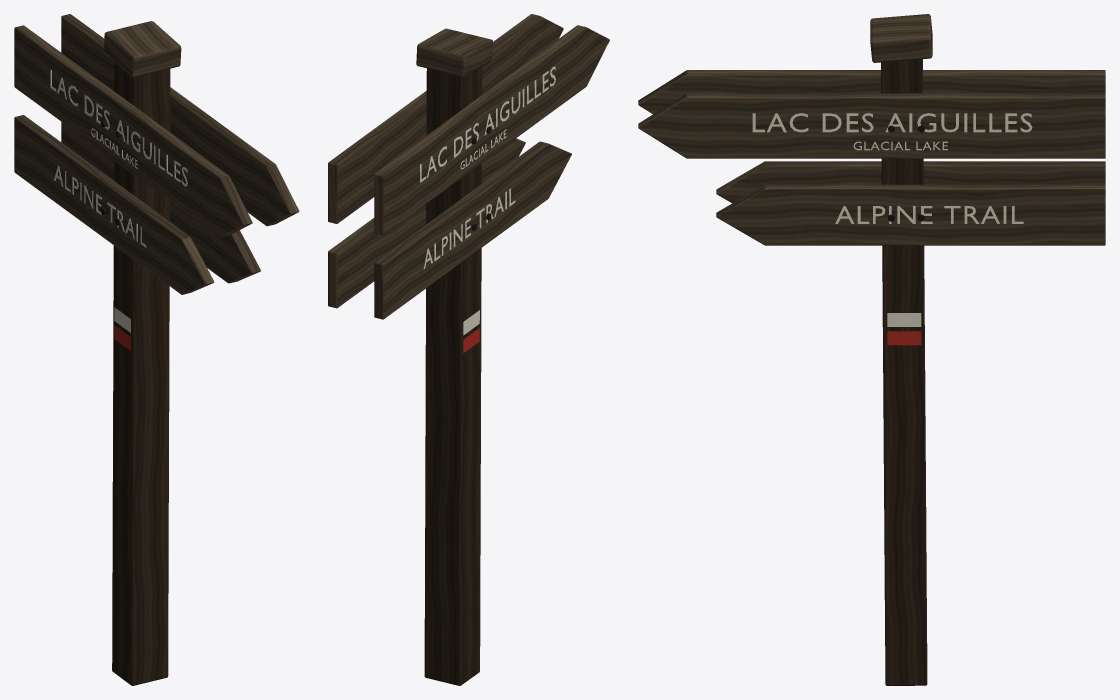
The model's file is trail-sign.glb.
3 renders of one model, left to right at view 1: azimuth 30°, elevation 25°; view 2: azimuth 150°, elevation 25°; view 3: azimuth 270°, elevation 25°, orthographic. The views are drawn at different scales.
Visible parts, largest first — view 1: SM_AlpineTrailSign; view 2: SM_AlpineTrailSign; view 3: SM_AlpineTrailSign.
Boxes of the visible parts, bbox=[...] form: SM_AlpineTrailSign: bbox=[14, 14, 299, 685]; SM_AlpineTrailSign: bbox=[328, 14, 609, 685]; SM_AlpineTrailSign: bbox=[638, 14, 1105, 685].
Bounding box in the file's own units: 0.248 × 2.49 × 1.62.
5 materials, 3 textured.
